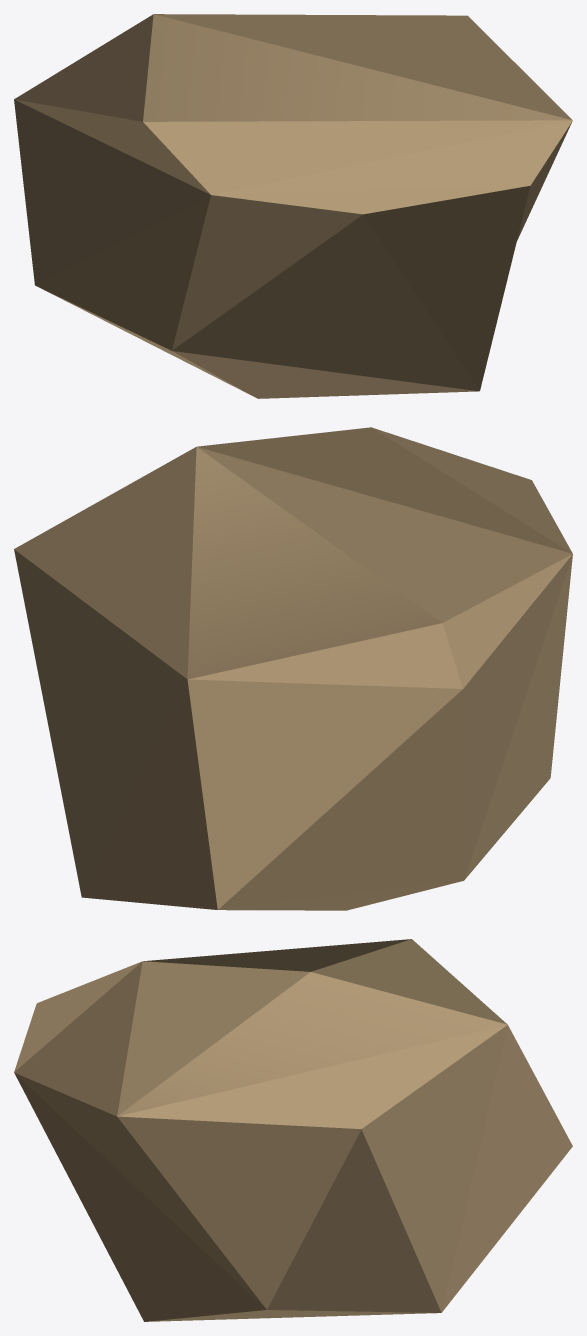
Rendered from Stone.fbx.
The picture shows the model from 3 angles, top to bottom: view 1: azimuth 30°, elevation 25°; view 2: azimuth 150°, elevation 25°; view 3: azimuth 270°, elevation 25°; orthographic projection. The views are drawn at different scales.
Parts seen in each view (by area): view 1: Stone; view 2: Stone; view 3: Stone.
Boxes of the visible parts, x1,y1,x2,y2 form: Stone: (14, 14, 572, 398); Stone: (14, 427, 572, 910); Stone: (14, 939, 572, 1321).
Bounding box in the file's own units: 19.94 × 12.99 × 24.77.
